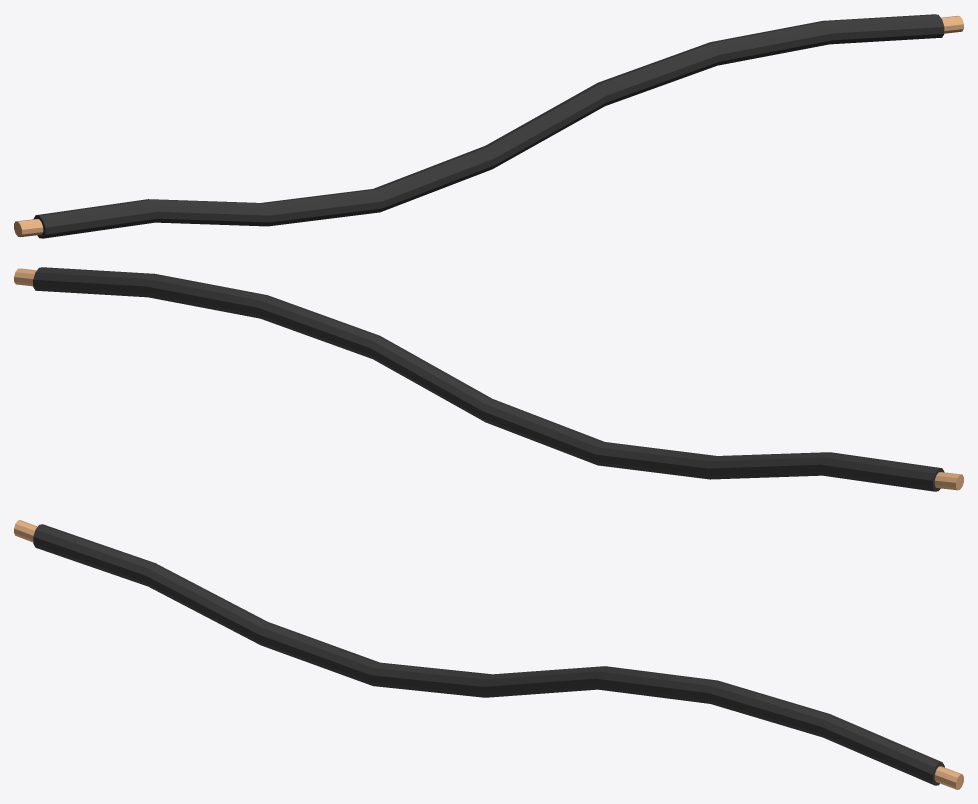
The model's file is Wire_2_Black.fbx.
3 views of the same model, one above another, from view 1: azimuth 30°, elevation 25°; view 2: azimuth 150°, elevation 25°; view 3: azimuth 330°, elevation 25° (orthographic).
Parts seen in each view (by area): view 1: polySurface244; view 2: polySurface244; view 3: polySurface244.
Part boxes in pixels (x1,y1,x2,y2): polySurface244: (14,14,963,238); polySurface244: (14,267,963,491); polySurface244: (14,520,963,789).
Bounding box in the file's own units: 1.42 × 0.1254 × 0.0308.
